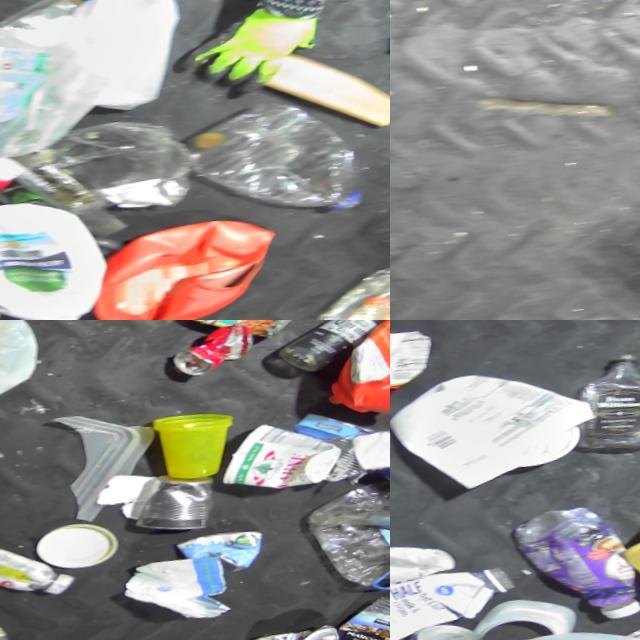can: (287, 392, 390, 487), (131, 459, 228, 534), (166, 320, 262, 377), (241, 608, 351, 640), (180, 320, 318, 344), (418, 613, 489, 640)
milk_jug: (390, 347, 609, 502), (0, 2, 120, 175), (0, 180, 130, 320), (56, 0, 203, 119), (390, 321, 439, 398)
non_white_jug: (88, 195, 302, 320), (303, 457, 390, 594), (312, 320, 390, 418), (0, 140, 43, 251)
plastic_bottle: (171, 75, 385, 230), (570, 339, 640, 453), (286, 245, 390, 320)
